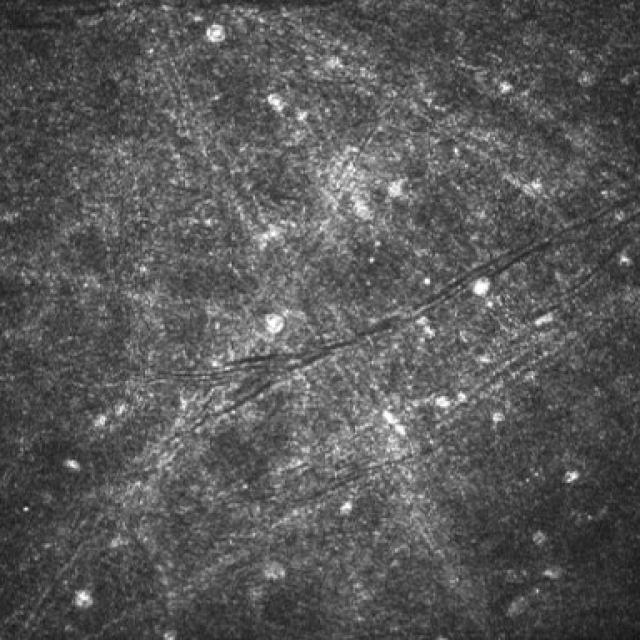anomalie: (68, 583, 98, 614), (260, 557, 288, 585), (385, 174, 411, 202), (262, 310, 287, 338), (203, 21, 229, 46), (468, 274, 494, 299), (559, 464, 585, 488), (264, 90, 288, 116), (575, 68, 600, 92), (540, 562, 568, 583), (107, 396, 133, 418), (88, 408, 110, 432), (334, 497, 356, 521), (60, 456, 84, 476), (494, 78, 517, 98), (489, 406, 508, 430), (432, 392, 454, 411), (615, 248, 634, 270), (391, 421, 411, 440), (531, 528, 549, 549), (378, 406, 397, 425), (158, 625, 178, 640), (454, 388, 471, 404), (424, 323, 440, 340), (414, 313, 429, 328)
